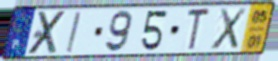5: (139, 10, 169, 53)
9: (103, 9, 135, 53)
I: (64, 10, 83, 54)
T: (185, 6, 212, 53)
X: (25, 10, 69, 57), (209, 7, 249, 52)
